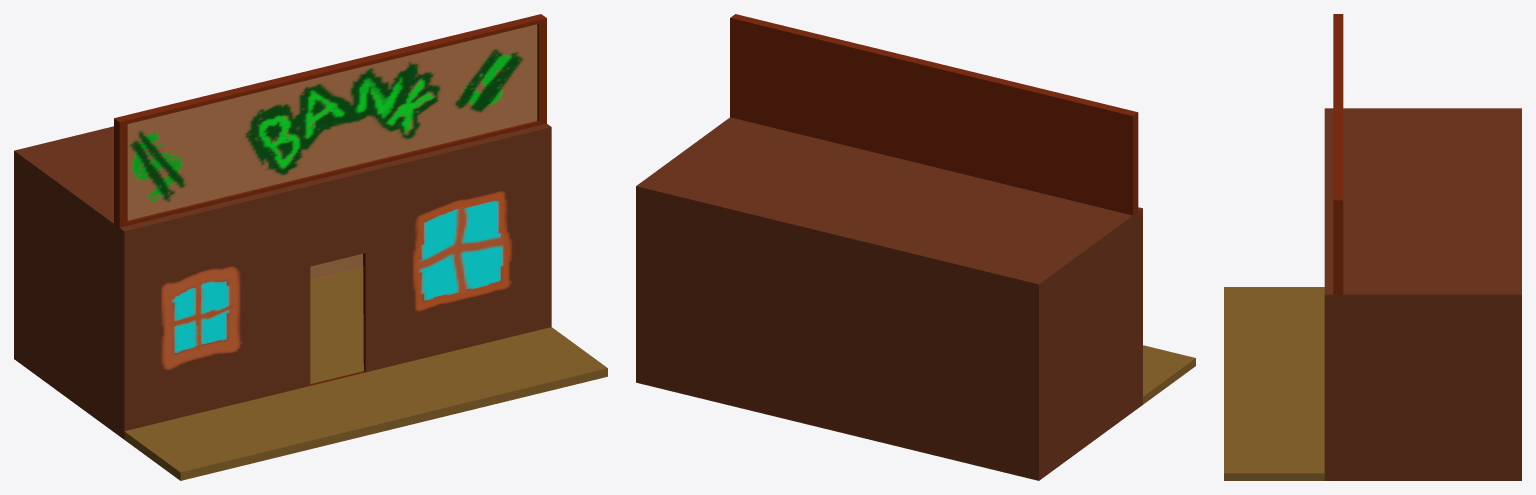
The model's file is western bank.obj.
3 views of the same model, side by side, from view 1: azimuth 30°, elevation 25°; view 2: azimuth 150°, elevation 25°; view 3: azimuth 270°, elevation 25° (orthographic). The views are drawn at different scales.
Parts seen in each view (by area): view 1: Cube; view 2: Cube; view 3: Cube.
Part boxes in pixels (x1,y1,x2,y2): Cube: (14, 14, 607, 480); Cube: (636, 14, 1195, 480); Cube: (1224, 14, 1521, 480).
Size of the model in its own units: 14.93 by 10.48 by 10.08.
Materials: 1 (1 with a texture image).
